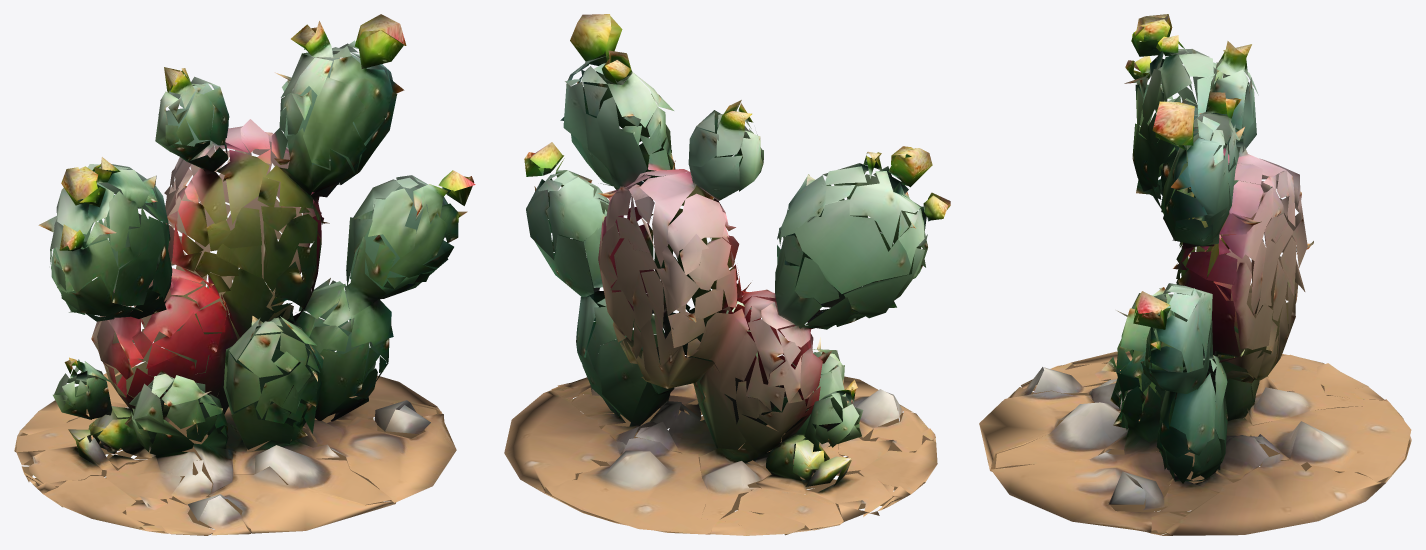
File: tripo-cacto446b.glb
The picture shows the model from 3 angles, left to right: view 1: azimuth 30°, elevation 25°; view 2: azimuth 150°, elevation 25°; view 3: azimuth 270°, elevation 25°; orthographic projection. The views are drawn at different scales.
Parts seen in each view (by area): view 1: tripo_node_03304b1f-61c0-489e-a06a-65433a6d12f6; view 2: tripo_node_03304b1f-61c0-489e-a06a-65433a6d12f6; view 3: tripo_node_03304b1f-61c0-489e-a06a-65433a6d12f6.
Part boxes in pixels (left/top/right/bottom): tripo_node_03304b1f-61c0-489e-a06a-65433a6d12f6: left=14, top=14, right=475, bottom=535; tripo_node_03304b1f-61c0-489e-a06a-65433a6d12f6: left=504, top=14, right=950, bottom=535; tripo_node_03304b1f-61c0-489e-a06a-65433a6d12f6: left=979, top=14, right=1411, bottom=535.
Size of the model in its own units: 0.9669 by 0.8952 by 0.85.
Materials: 1 (1 with a texture image).
